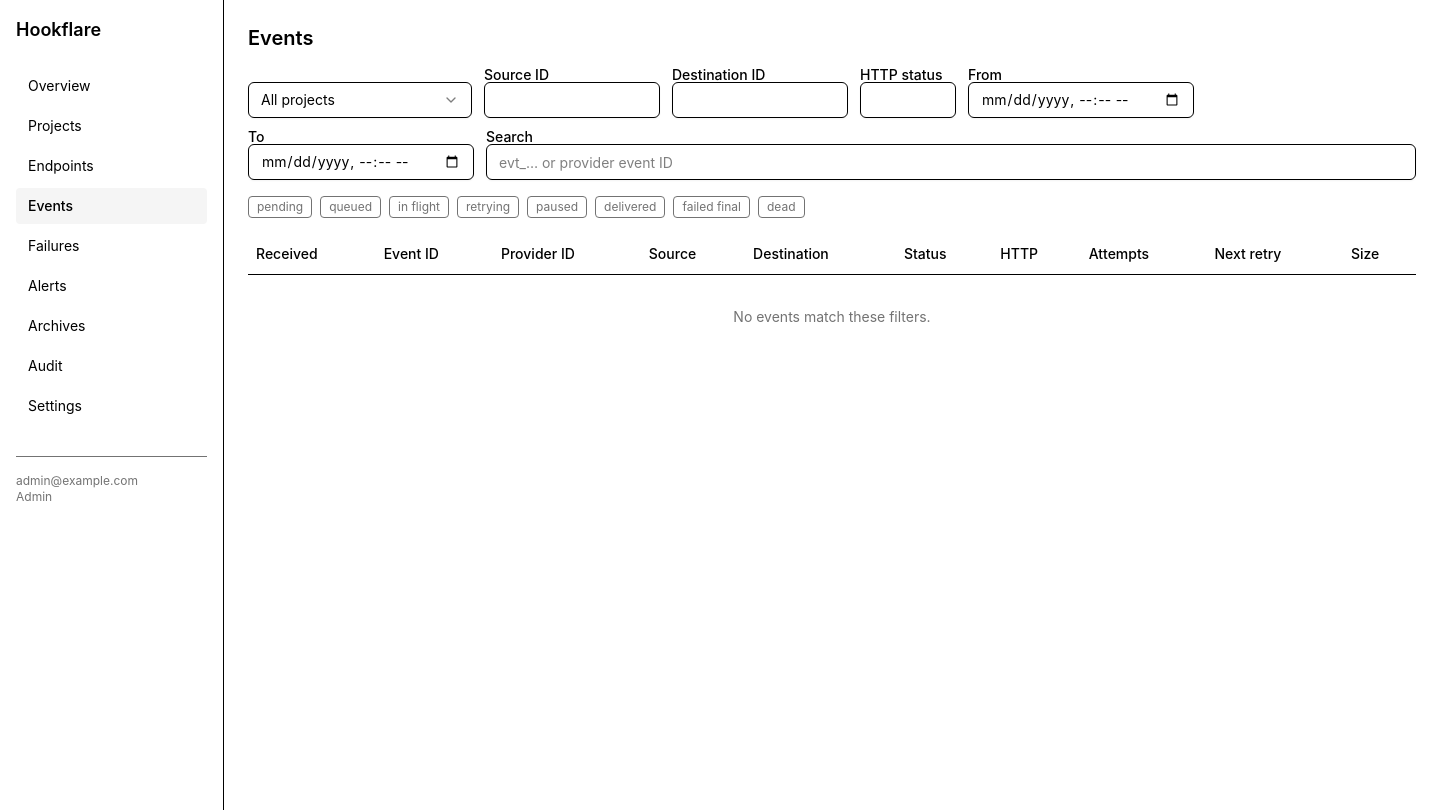
Test: Events › asks for a source before searching a provider event ID
In the field labelled "Search": (951, 162) [486, 144, 1416, 180], type "pi_123"
Then press Enter
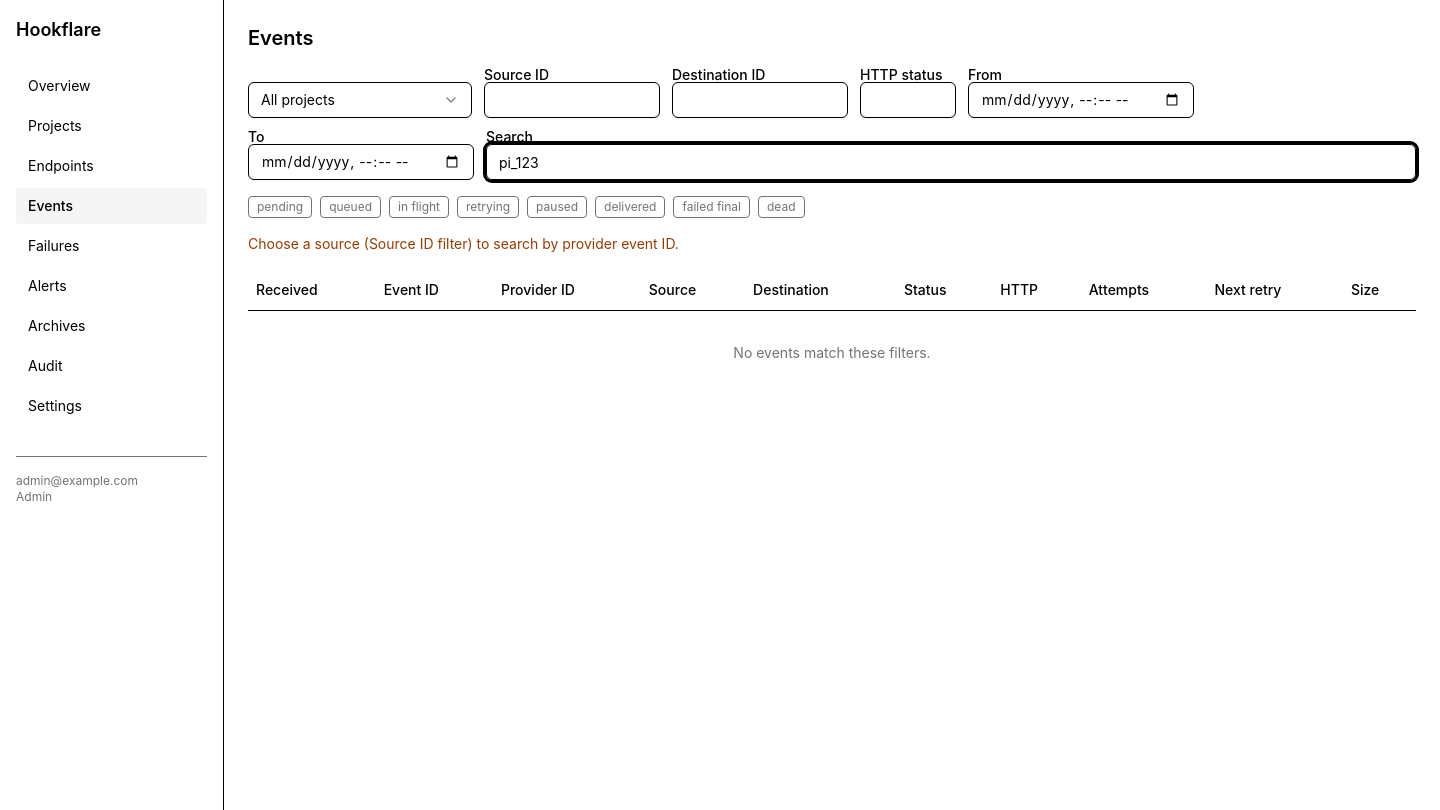
Expected: the text "Choose a source" is shown, [248, 235, 679, 252]
